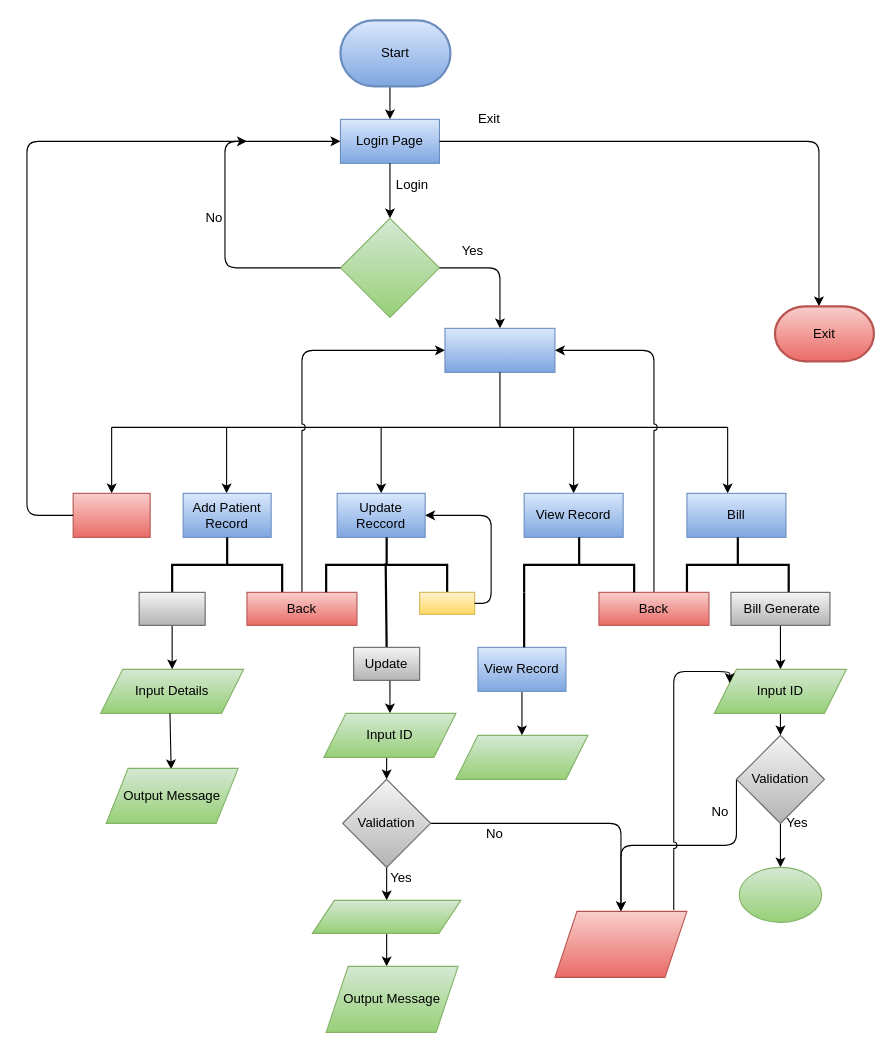
Some shapes in this 894 by 1052 pixel diagram are drawn without their labels. The shapes that lost their labels are listed below. From the top down, each one's box as (x1, y1, x2, y2) in pixels, then its label:
(339, 217, 439, 317): Authenticate
(444, 327, 555, 372): Home Page
(72, 492, 150, 537): Log Out
(138, 591, 205, 625): Submit
(419, 591, 475, 614): Reset
(455, 734, 588, 779): Output Record
(738, 866, 822, 922): Get Bill
(311, 899, 461, 933): Detials
(554, 910, 687, 977): No Record Found
